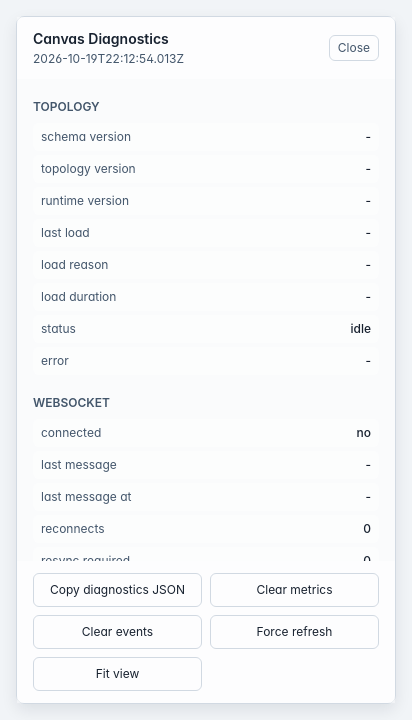
Test: CanvasDiagnosticsPanel › falls back to textarea copy when clipboard API is unavailable
The image size is (412, 720).
Click the button "Copy diagnostics JSON".
click(118, 590)  # box [33,573,202,607]
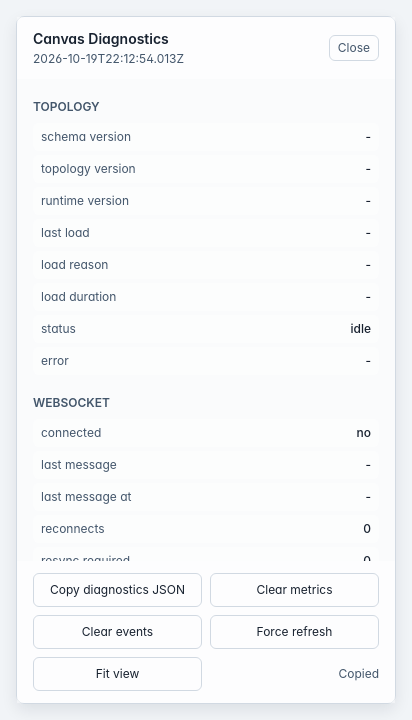
Expected: the text "Copied" is shown, [338,666,379,681]
